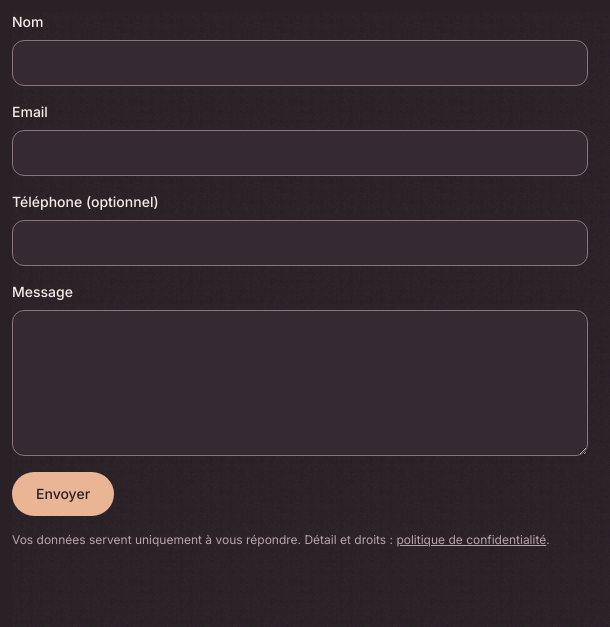
Test: ContactForm › affiche un message de succès après envoi
This screenshot has width=610, height=627.
In the field labelled "Nom": point(300, 63) x1=12 y1=40 x2=588 y2=86, type "Jean Dupont"
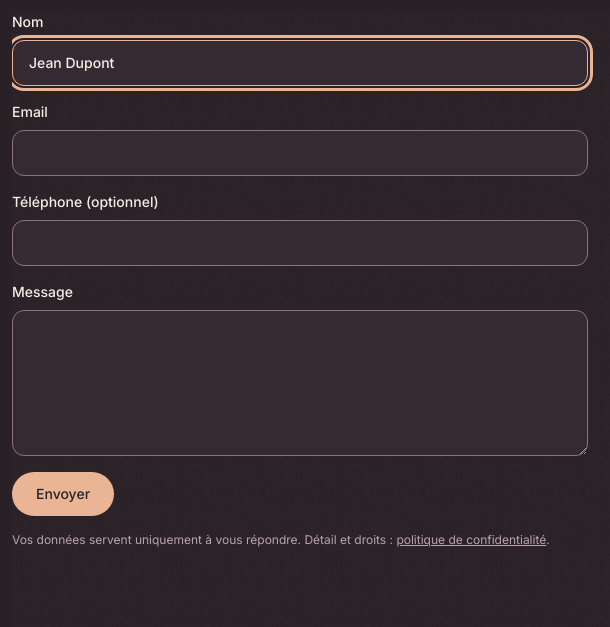
In the field labelled "Email": point(300, 153) x1=12 y1=130 x2=588 y2=176, type "jean@exemple.fr"
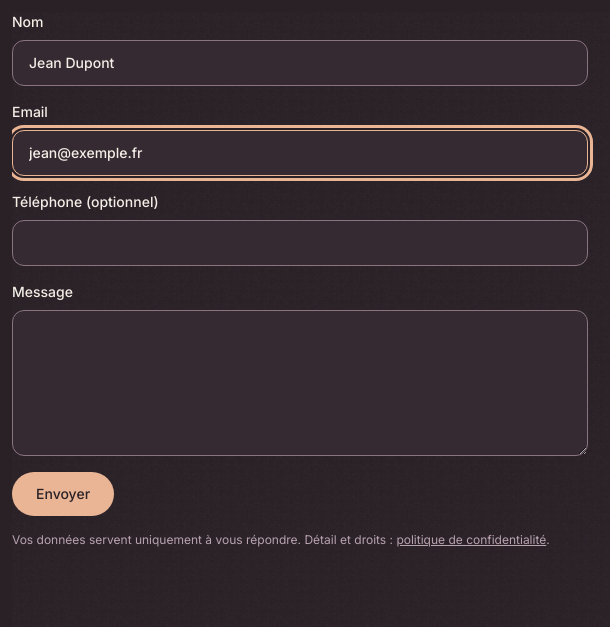
In the text box labelled "Message": point(300, 383) x1=12 y1=310 x2=588 y2=456, type "Bonjour"
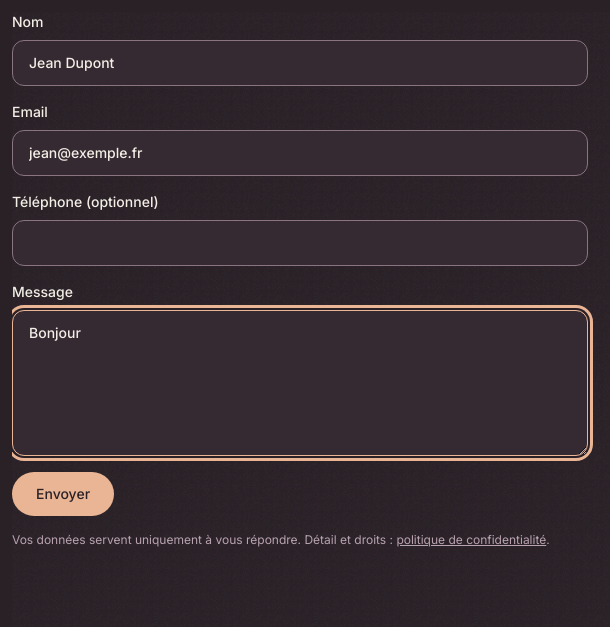
Click the button "Envoyer": point(63, 494) x1=12 y1=472 x2=114 y2=516
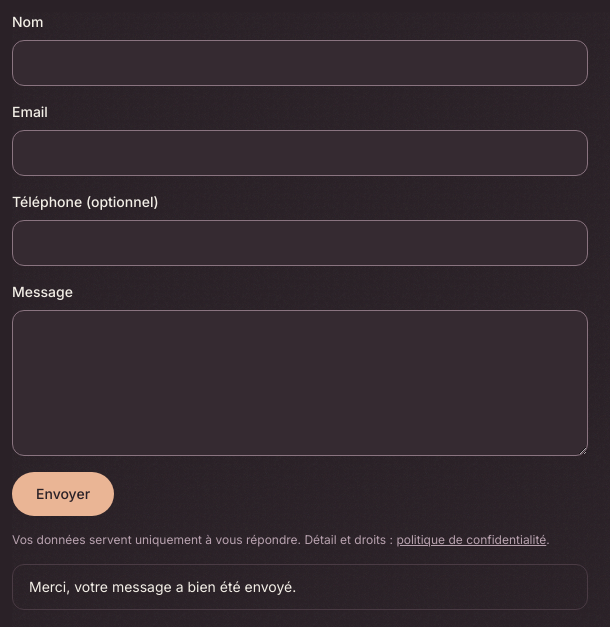
Now the message shows "Merci", box x1=29 y1=578 x2=296 y2=595
